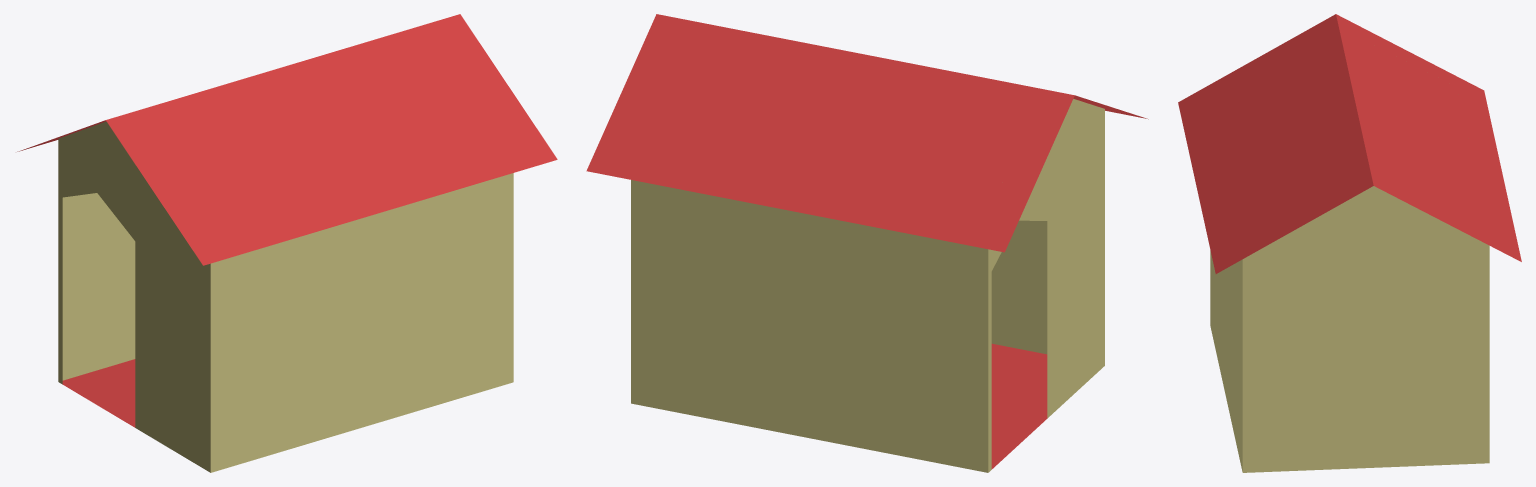
3 views of the same model, side by side, from view 1: azimuth 30°, elevation 25°; view 2: azimuth 150°, elevation 25°; view 3: azimuth 270°, elevation 25° (orthographic). The views are drawn at different scales.
Size of the model in its own units: 14.61 by 11.55 by 10.92.
